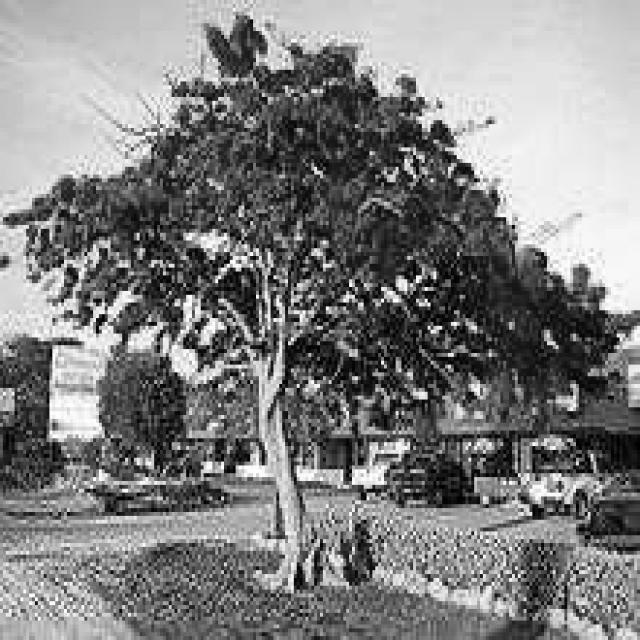Tree: (4, 13, 610, 571)
